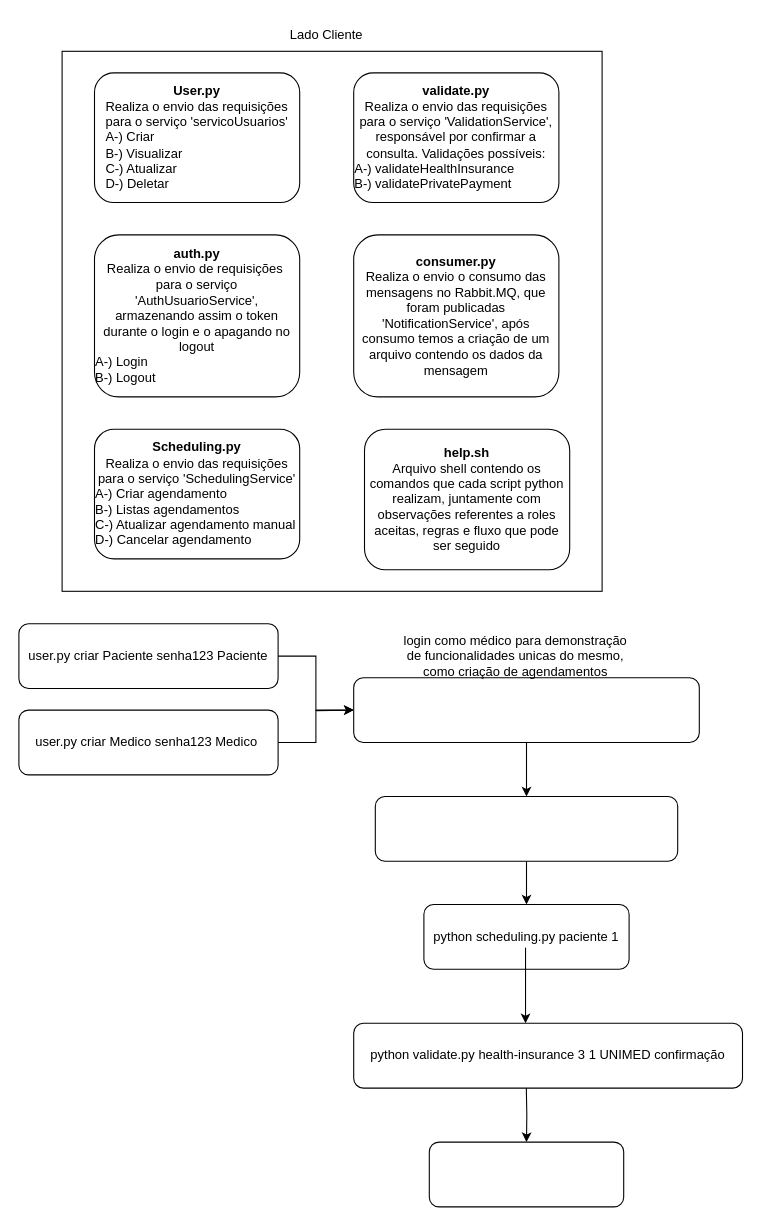
The diagram is 761 pixels wide and 1226 high, and some of its shapes have lost their labels. Each missing label, with the centre of its shape:
"cat /app/data/notifications.log" goes at [526,1174].
"python auth.py login <CPF do Medico criado> senha123" goes at [526,709].
"python scheduling.py criar 1 2 Coracao 2026-01-06" goes at [526,828].
